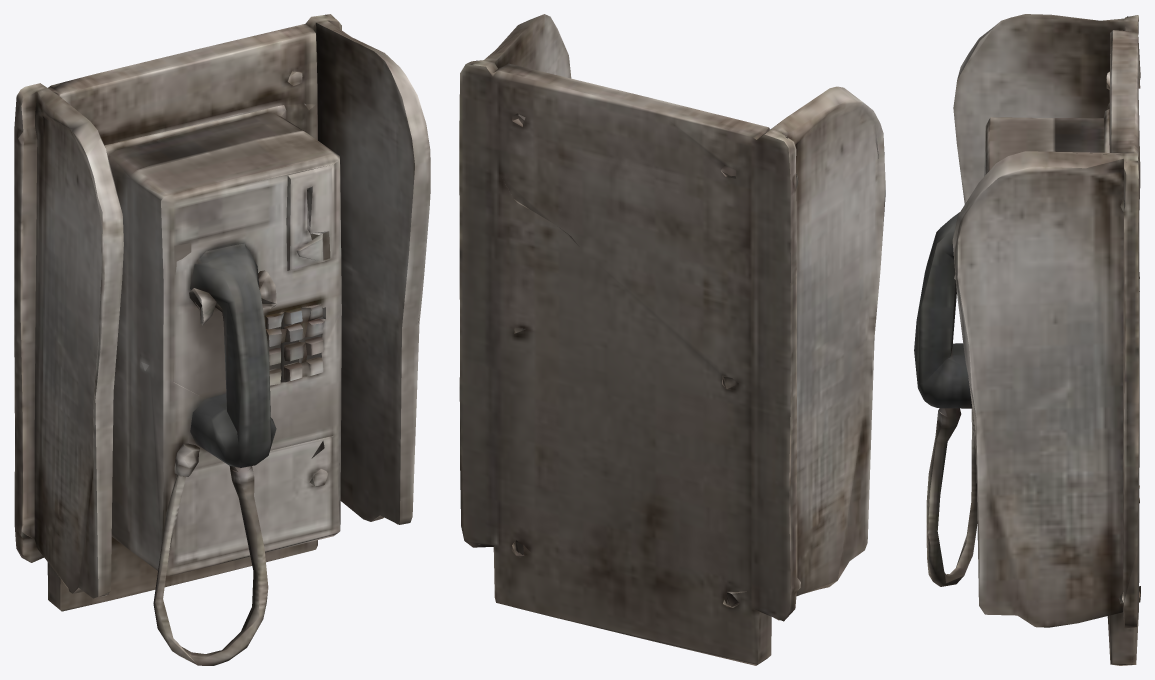
File: p7-payphone.glb
3 views of the same model, side by side, from view 1: azimuth 30°, elevation 25°; view 2: azimuth 150°, elevation 25°; view 3: azimuth 270°, elevation 25° (orthographic). The views are drawn at different scales.
Parts seen in each view (by area): view 1: p7-payphone; view 2: p7-payphone; view 3: p7-payphone.
Boxes of the visible parts, <box> form: p7-payphone: <box>14,14,430,665</box>; p7-payphone: <box>459,14,885,665</box>; p7-payphone: <box>914,14,1140,665</box>.
Size of the model in its own units: 0.6715 by 1.05 by 0.4063.
Materials: 1 (1 with a texture image).
